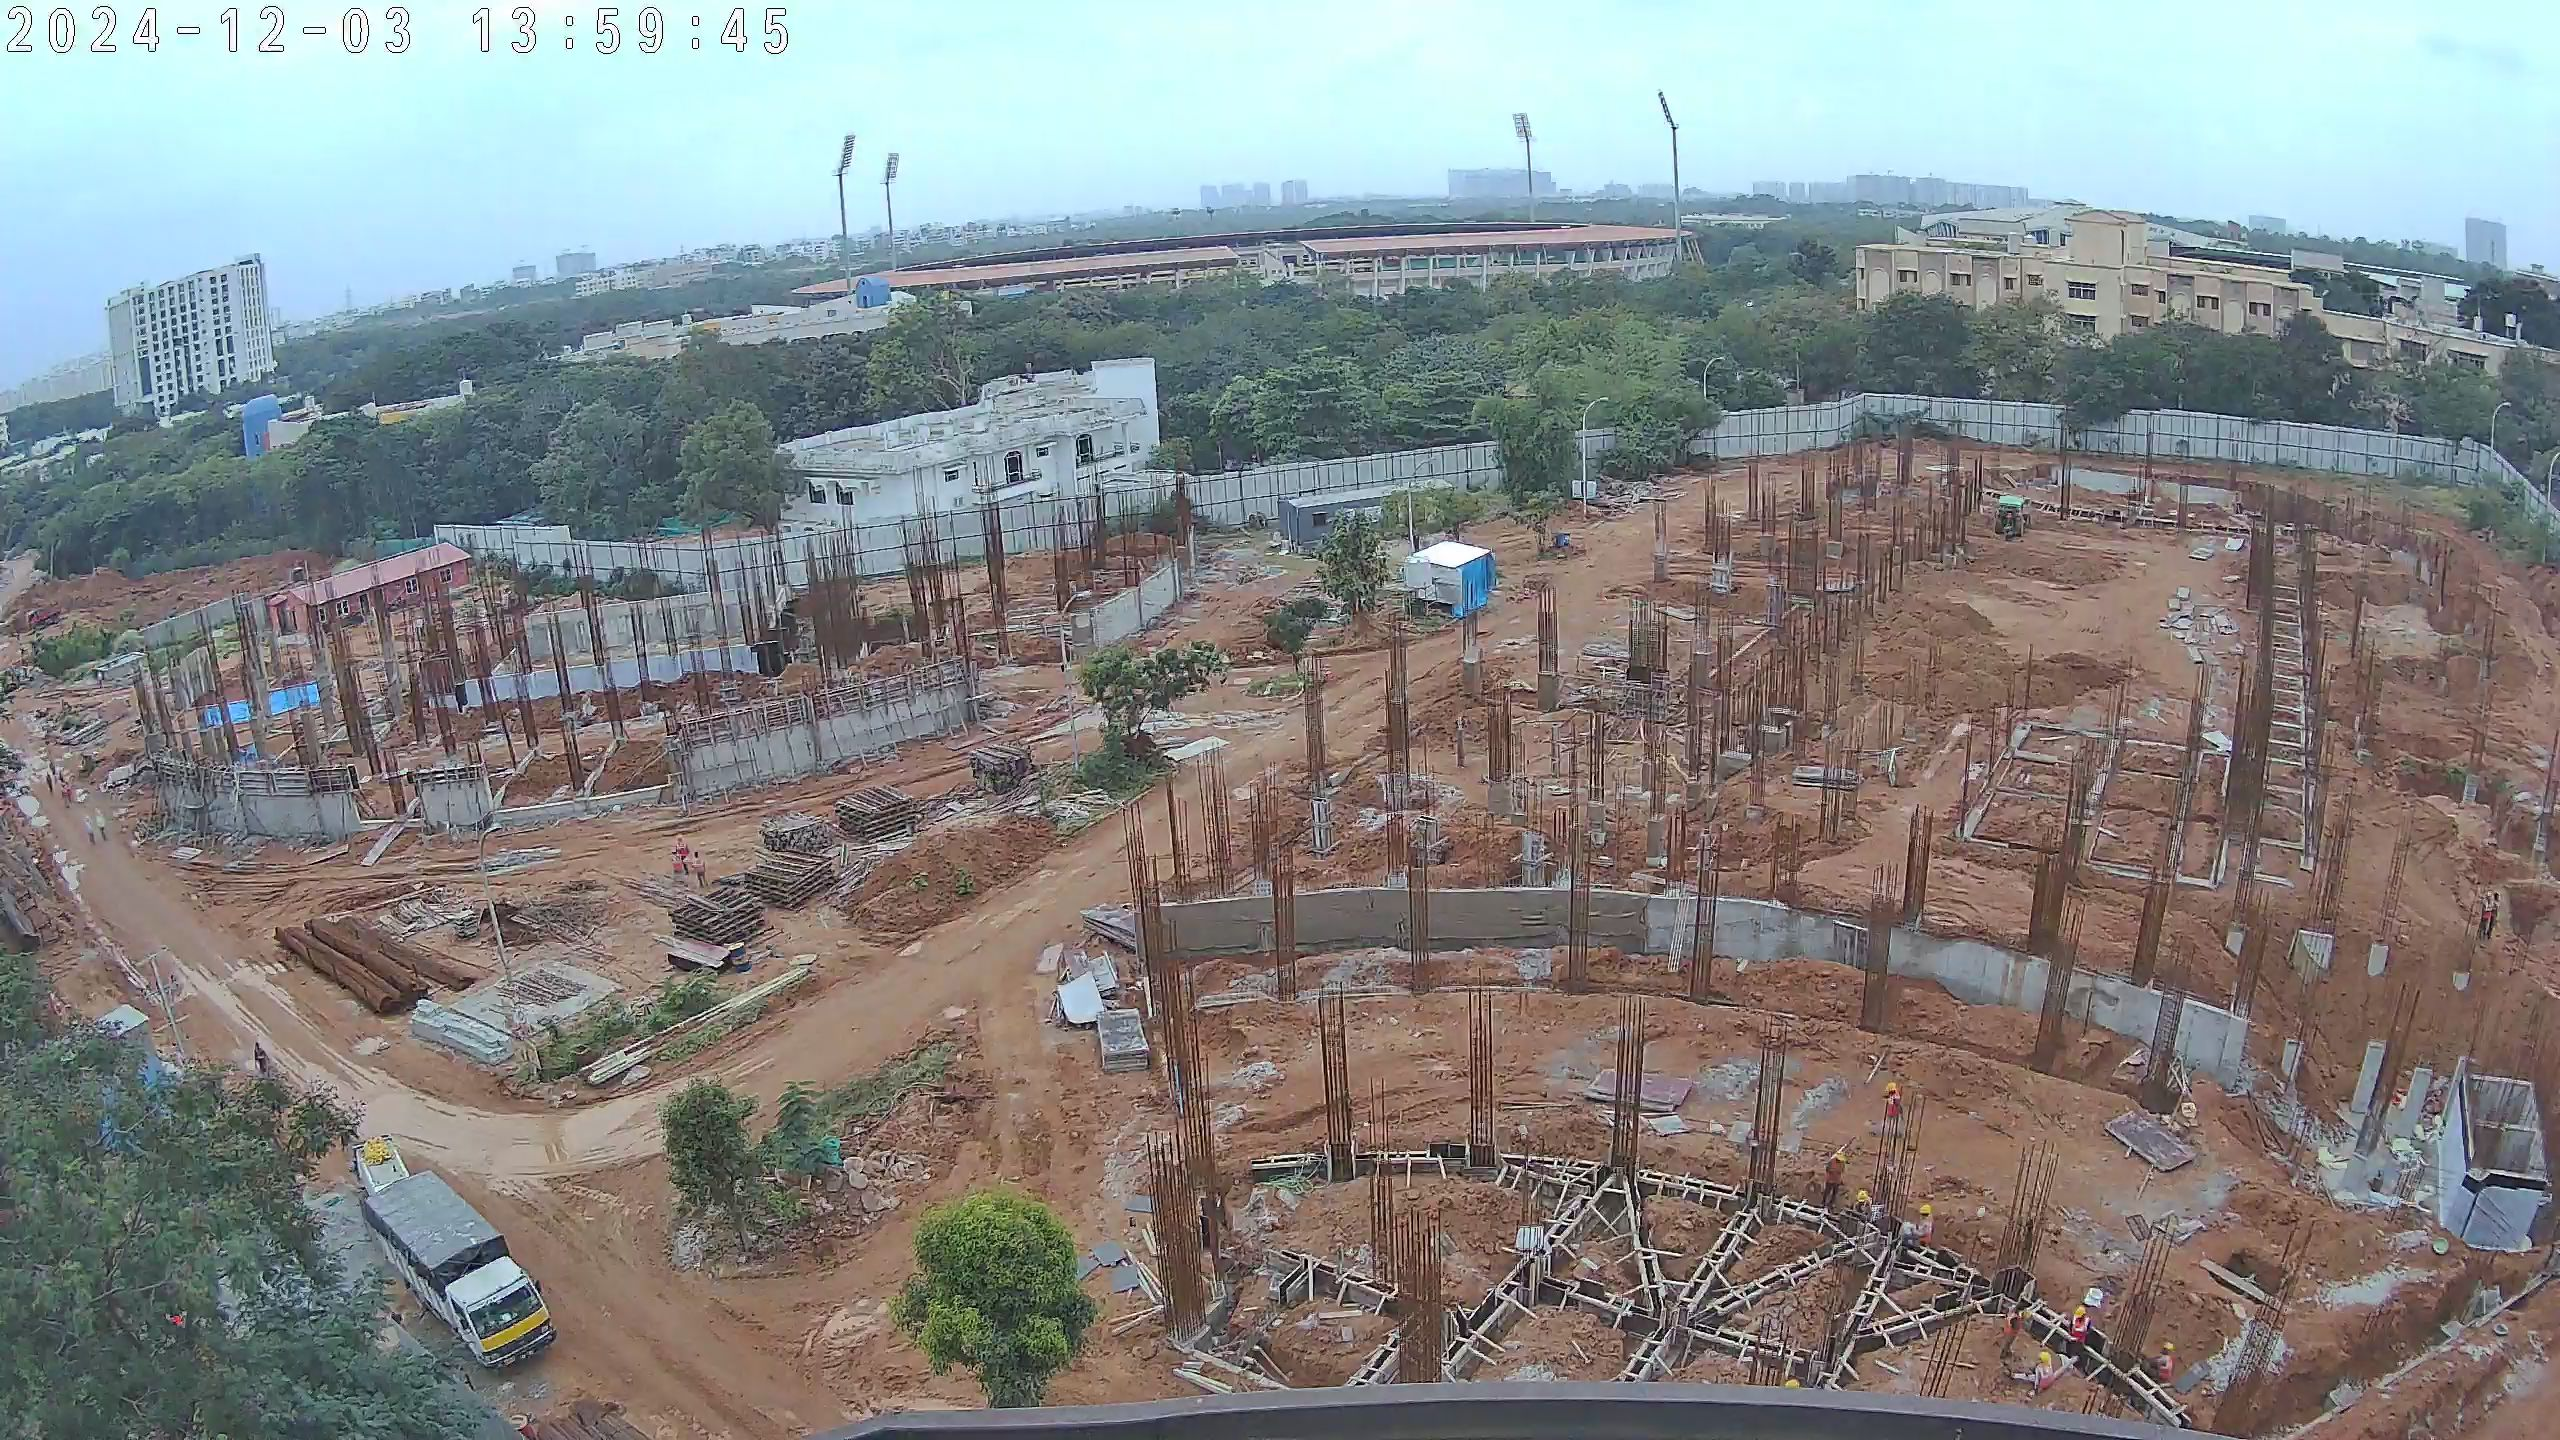bulldozer: (1990, 488, 2037, 549)
truck: (350, 1137, 554, 1377)
worker: (2062, 1302, 2091, 1389), (1906, 1200, 1937, 1272), (2147, 1339, 2181, 1395), (1879, 1085, 1906, 1150), (1822, 1150, 1847, 1216), (2031, 1343, 2054, 1408), (246, 1034, 274, 1079), (2477, 884, 2496, 944), (666, 849, 692, 891), (671, 830, 692, 880), (688, 849, 712, 890), (1851, 1181, 1876, 1220), (90, 805, 112, 842), (2488, 884, 2500, 942), (81, 814, 101, 847), (62, 776, 77, 805), (43, 768, 58, 796), (60, 783, 72, 811), (47, 759, 57, 777), (57, 767, 64, 785)
